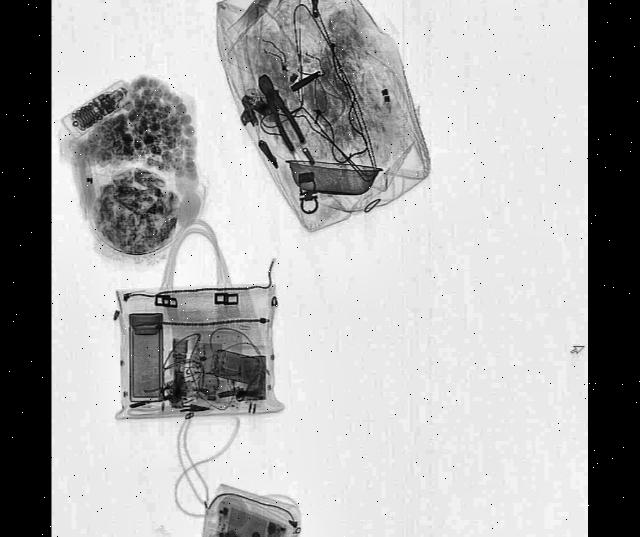Pliers: (252, 65, 306, 152)
